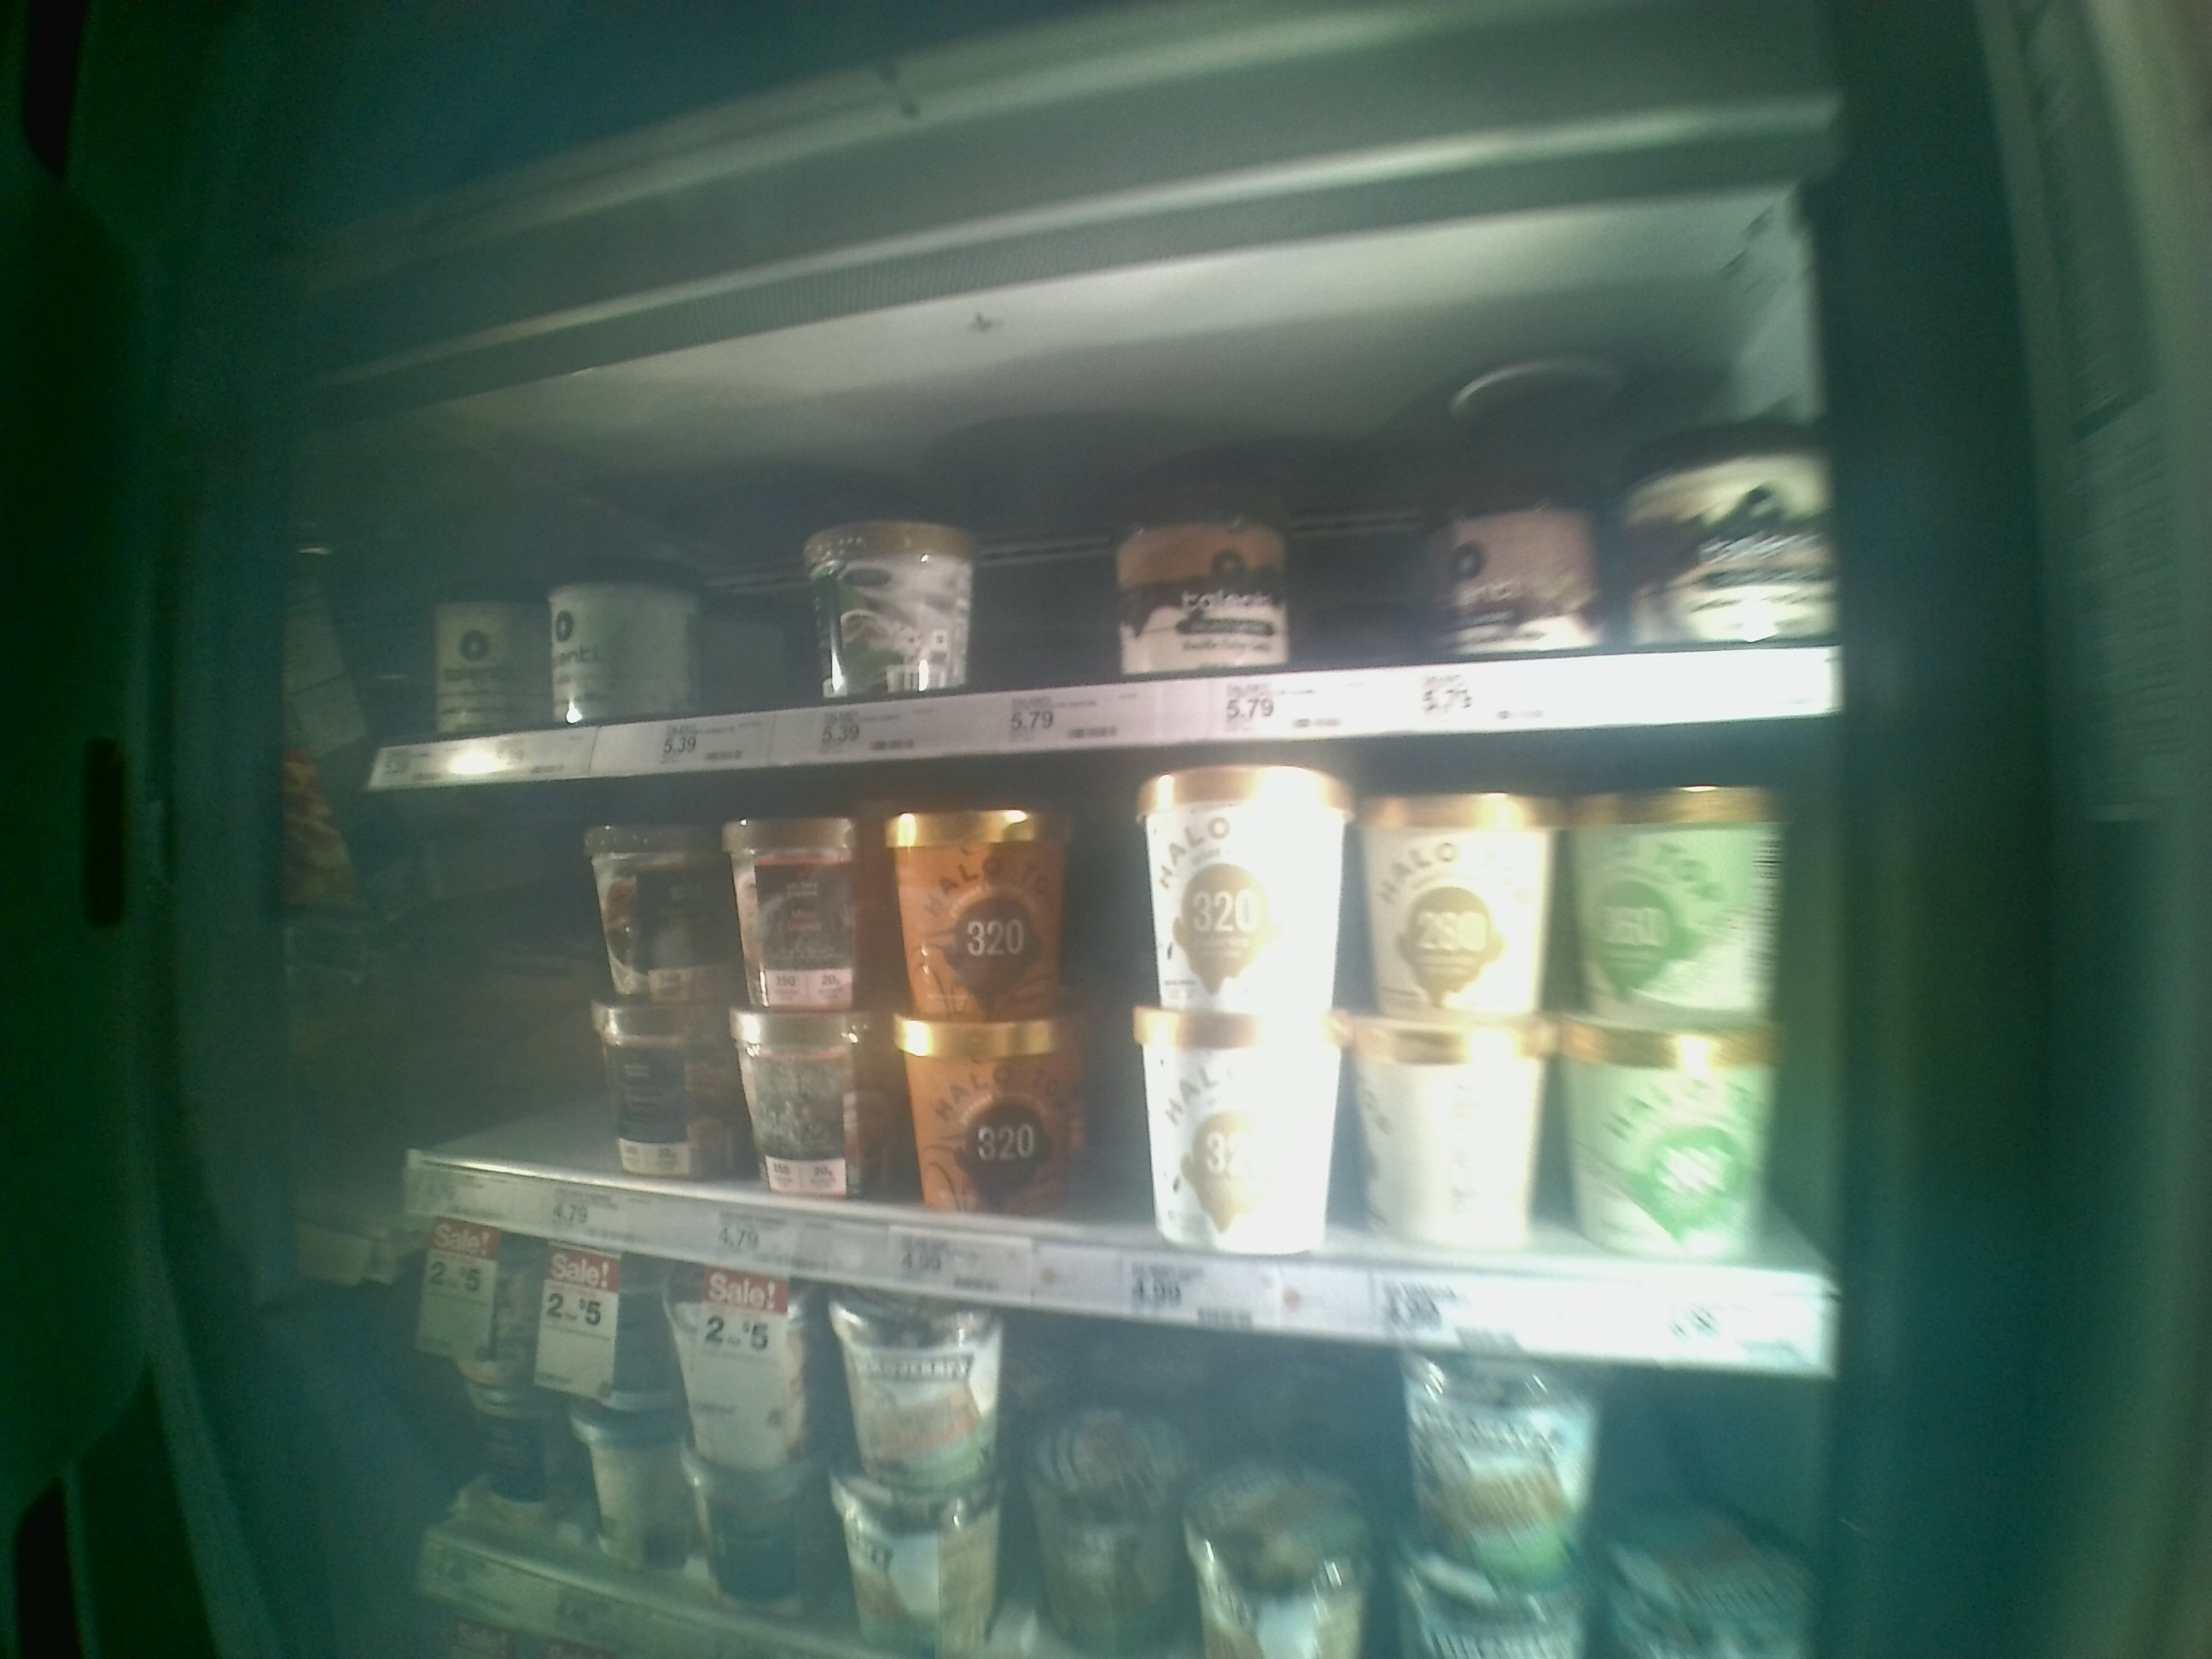shelf: (376, 713, 1844, 1378), (341, 284, 1844, 788)
